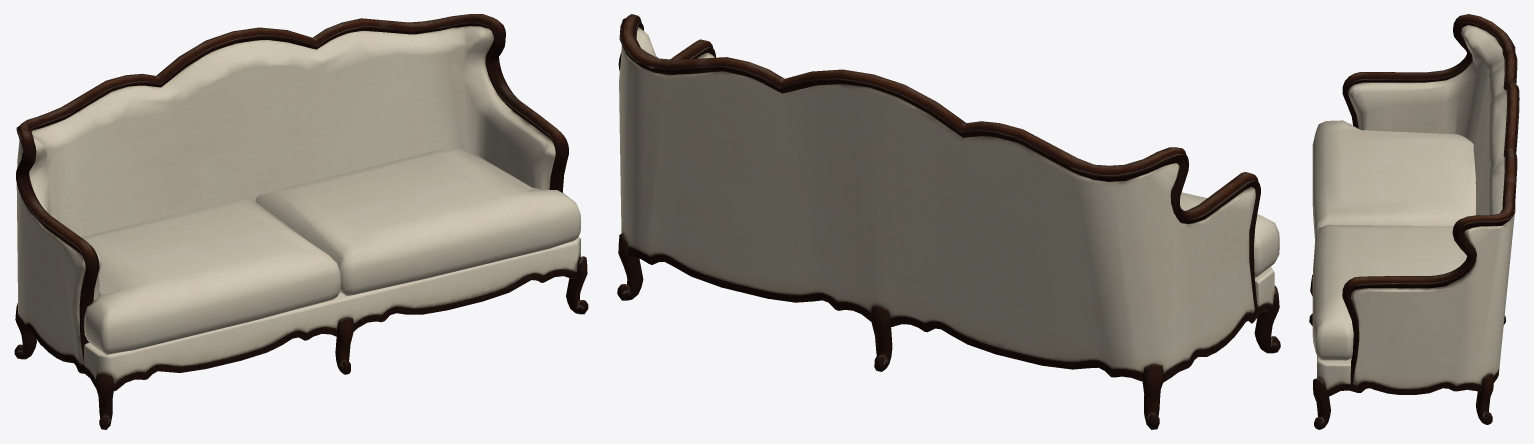
File: linden_oatmeal-linen.glb
The picture shows the model from 3 angles, left to right: view 1: azimuth 30°, elevation 25°; view 2: azimuth 150°, elevation 25°; view 3: azimuth 270°, elevation 25°; orthographic projection. The views are drawn at different scales.
Parts seen in each view (by area): view 1: Sofa_01; view 2: Sofa_01; view 3: Sofa_01.
Part boxes in pixels (<box>): Sofa_01: <box>14,14,588,429</box>; Sofa_01: <box>617,14,1280,429</box>; Sofa_01: <box>1309,14,1519,429</box>.
Size of the model in its own units: 1.57 by 0.7965 by 0.658.
1 material, 1 textured.
